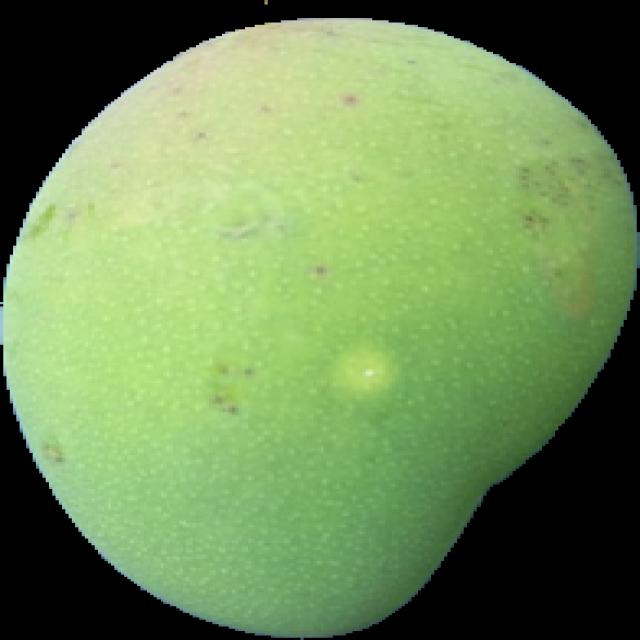Mango-sano: (0, 19, 639, 639)
